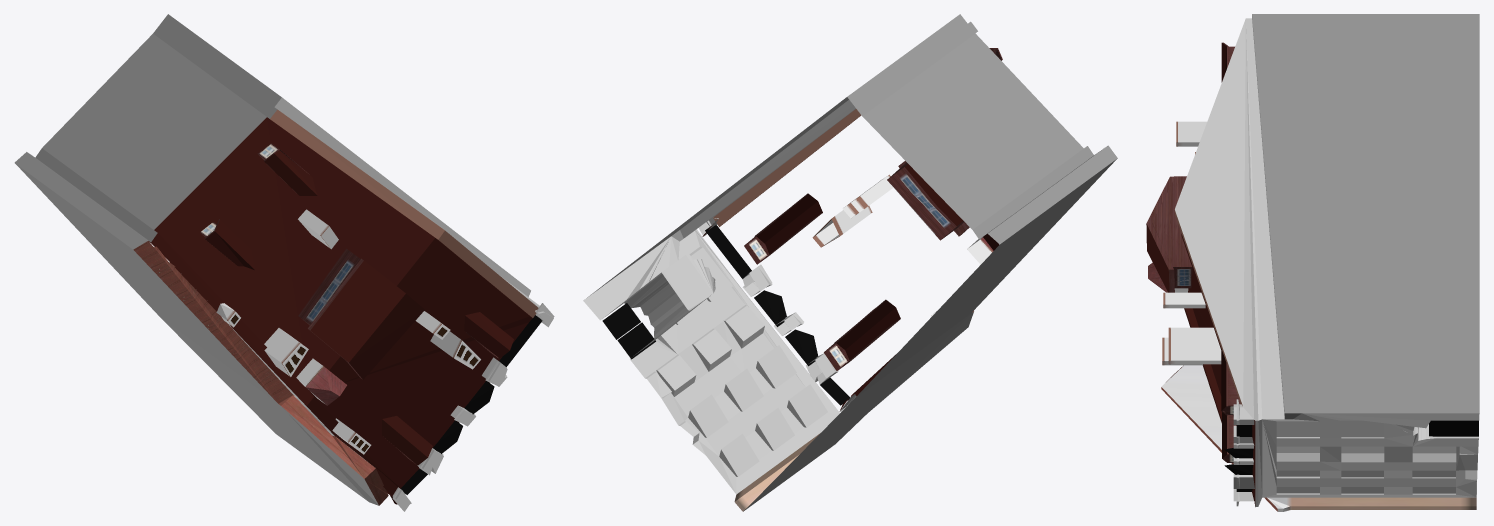
The model's file is Lai-7-origo.obj.
The picture shows the model from 3 angles, left to right: view 1: azimuth 30°, elevation 25°; view 2: azimuth 150°, elevation 25°; view 3: azimuth 270°, elevation 25°; orthographic projection.
Bounding box in the file's own units: 27.62 × 28 × 19.02.
